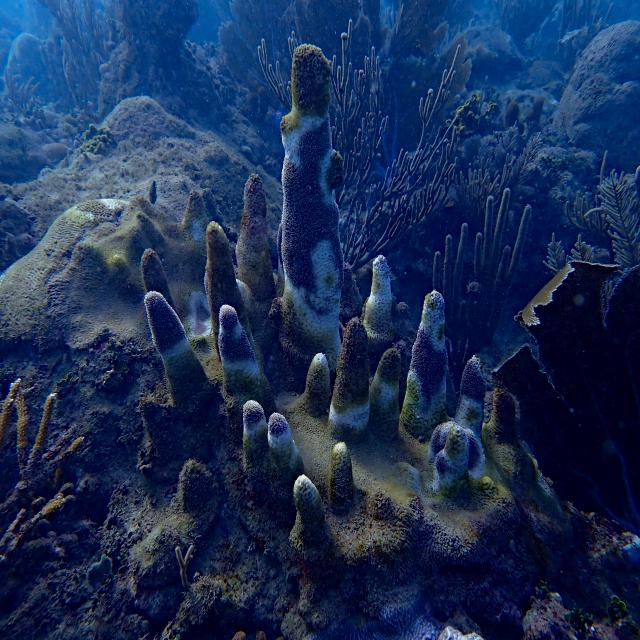Coral: (141, 43, 572, 587), (0, 376, 85, 564)
